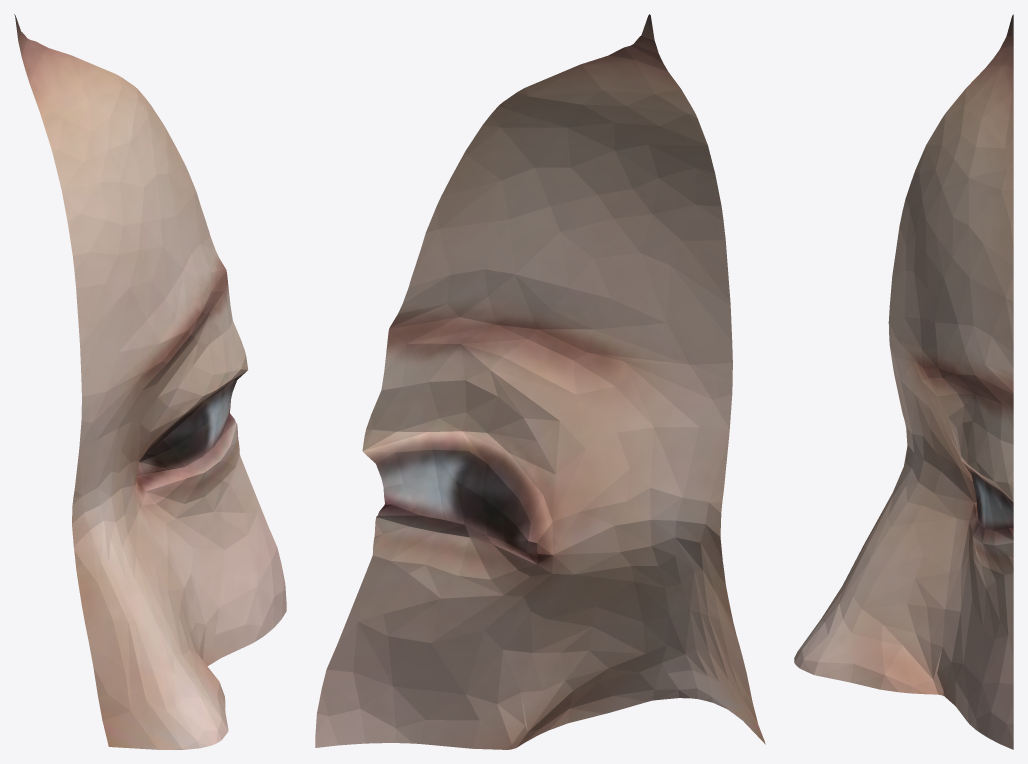
3 renders of one model, left to right at view 1: azimuth 30°, elevation 25°; view 2: azimuth 150°, elevation 25°; view 3: azimuth 270°, elevation 25°, orthographic. The views are drawn at different scales.
Bounding box in the file's own units: 50.3 × 117 × 37.99.
Materials: 1 (1 with a texture image).
